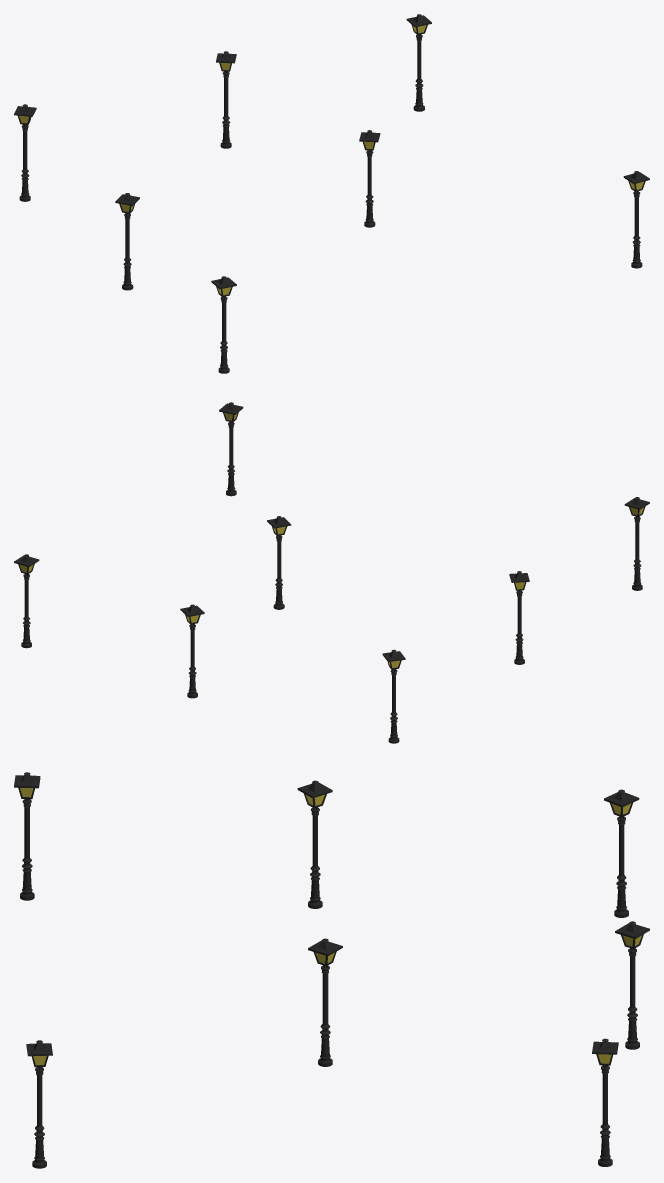
File: lamps.glb
3 renders of one model, top to bottom at view 1: azimuth 30°, elevation 25°; view 2: azimuth 150°, elevation 25°; view 3: azimuth 270°, elevation 25°, orthographic. The views are drawn at different scales.
Parts seen in each view (by area): view 1: StreetLight.006; view 2: StreetLight.006; view 3: StreetLight.006.
Boxes of the visible parts, x1=… form: StreetLight.006: x1=14, y1=14, x2=649, y2=373; StreetLight.006: x1=14, y1=402, x2=649, y2=743; StreetLight.006: x1=14, y1=772, x2=649, y2=1168.
Size of the model in its own units: 4.37 by 0.9098 by 4.21.
